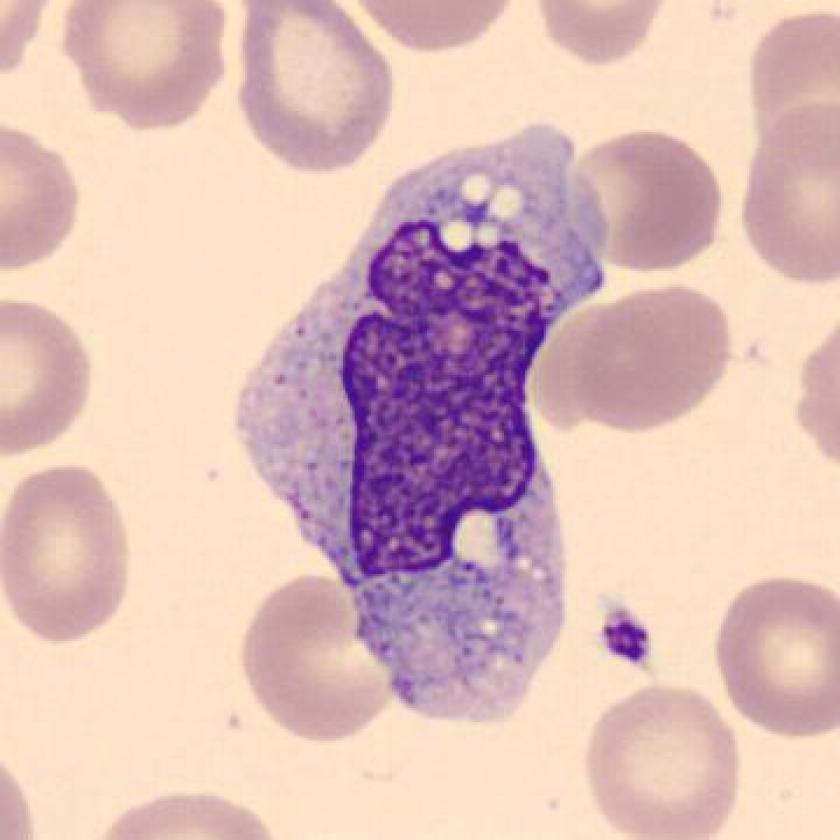monocyte: (220, 103, 636, 737)
